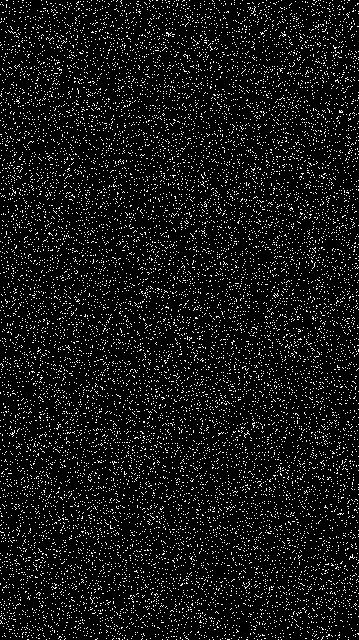pot: (94, 162, 259, 354), (94, 163, 259, 354)
